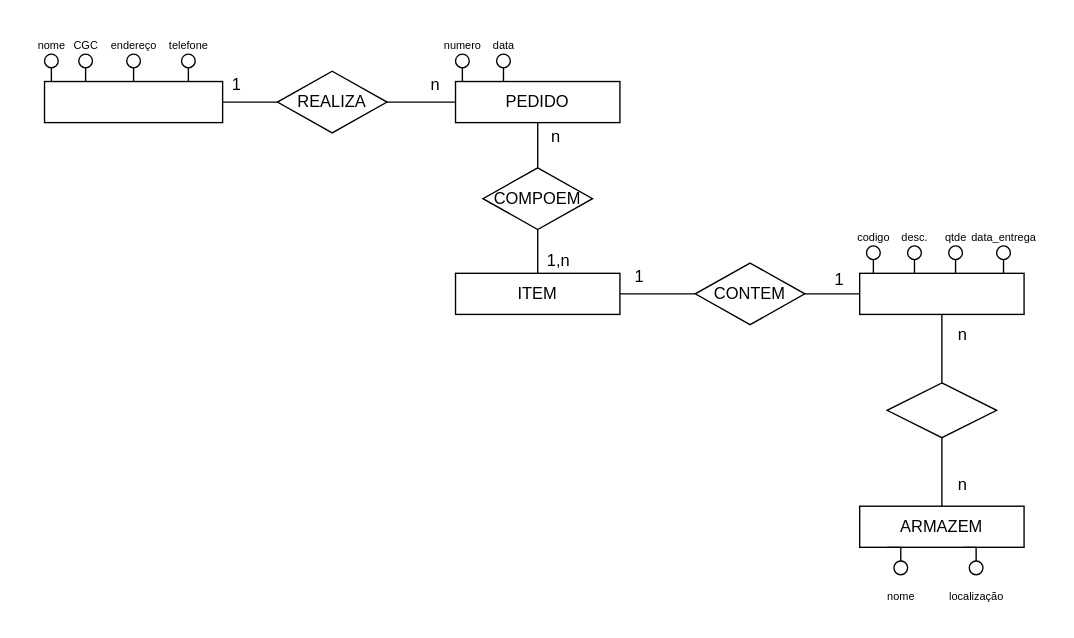
Some shapes in this 1074 by 638 pixel diagram are drawn without their labels. Here are the shapes that lost their labels. From the top down, the box of each, then its label:
(43, 80, 223, 123): CLIENTE
(858, 272, 1024, 314): PRODUTO
(886, 382, 997, 438): ESTA
